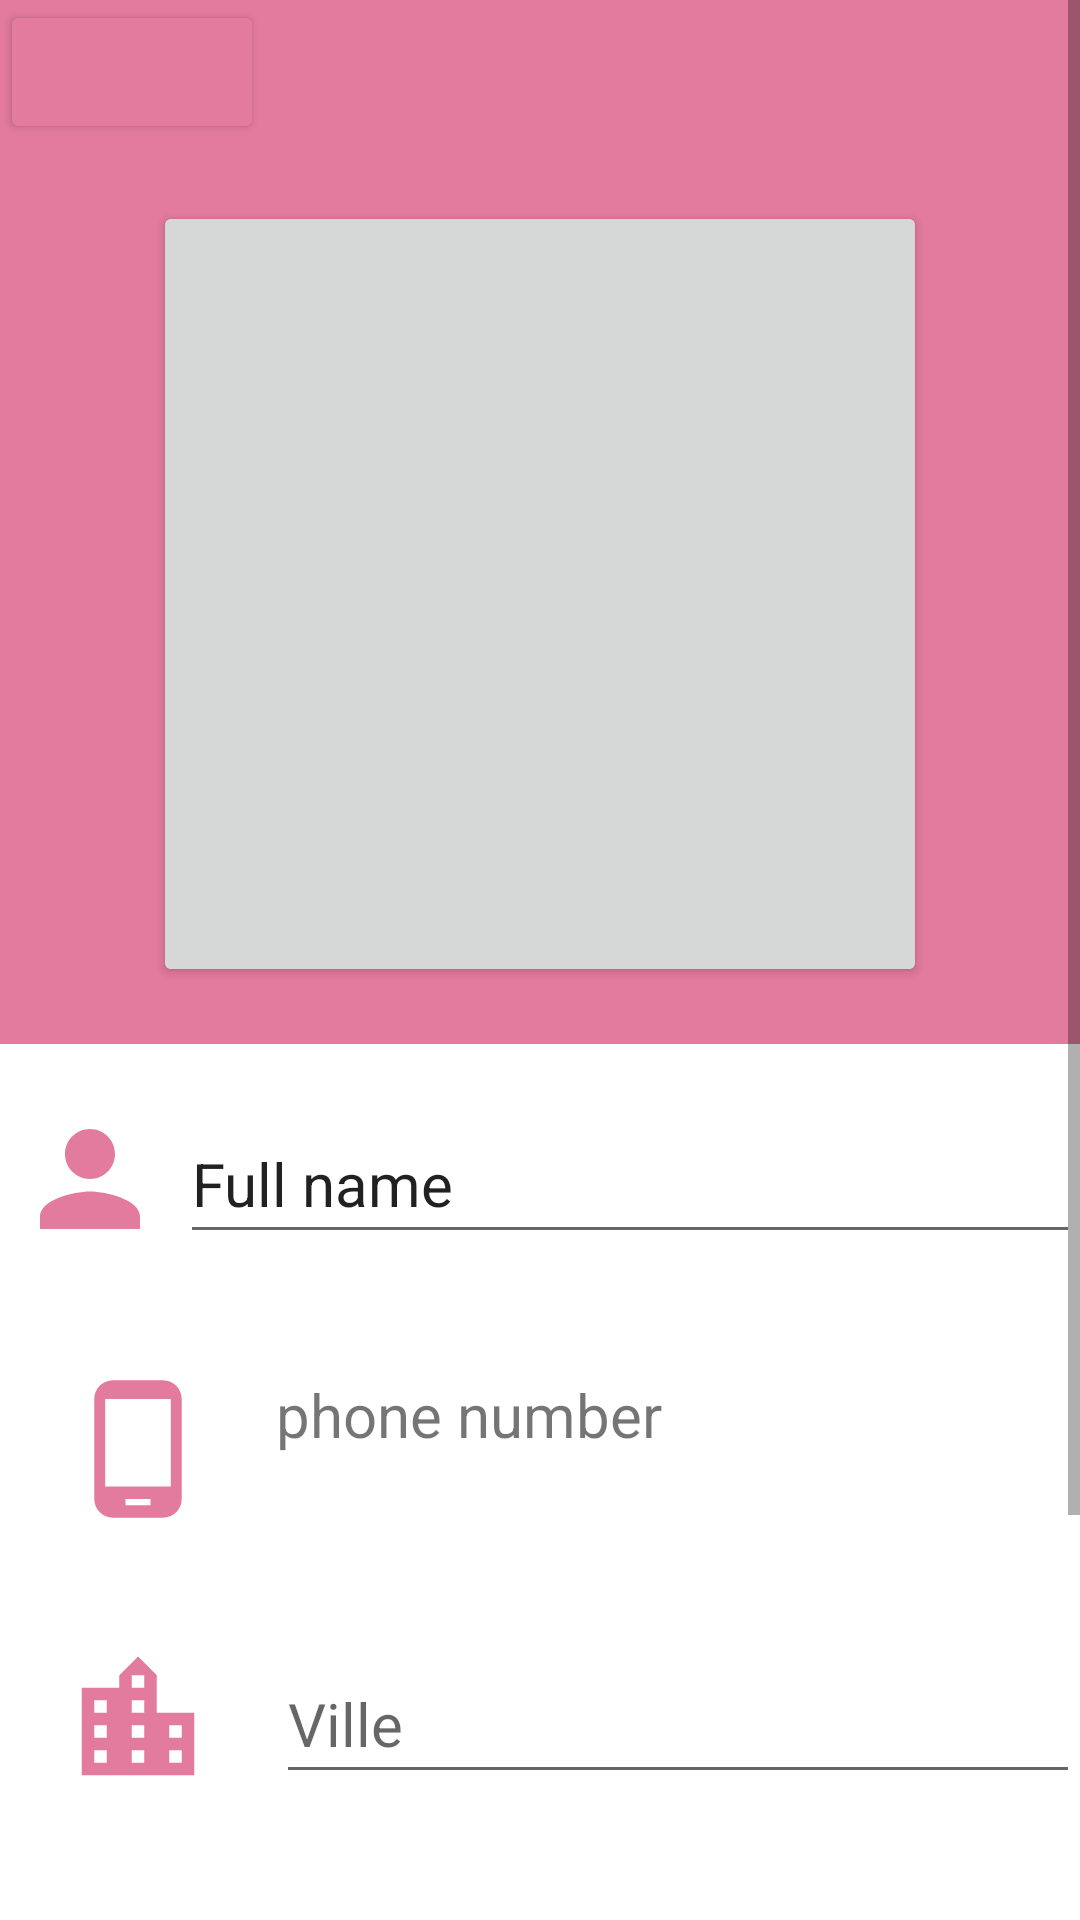

Where icons sit on this 1080x1920 app screen, as detection(x1, y1, x2, y2):
location city: detection(81, 1657, 195, 1776)
person: detection(40, 1129, 140, 1229)
phone android: detection(94, 1380, 182, 1518)
